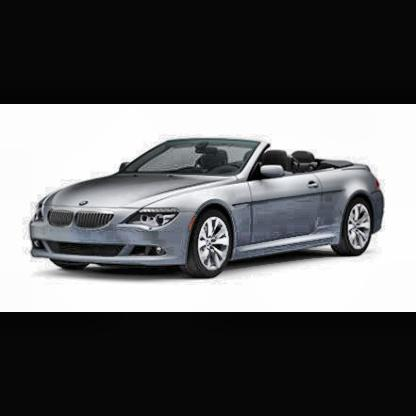BMW 6 Series Convertible 2007: (30, 136, 389, 275)
